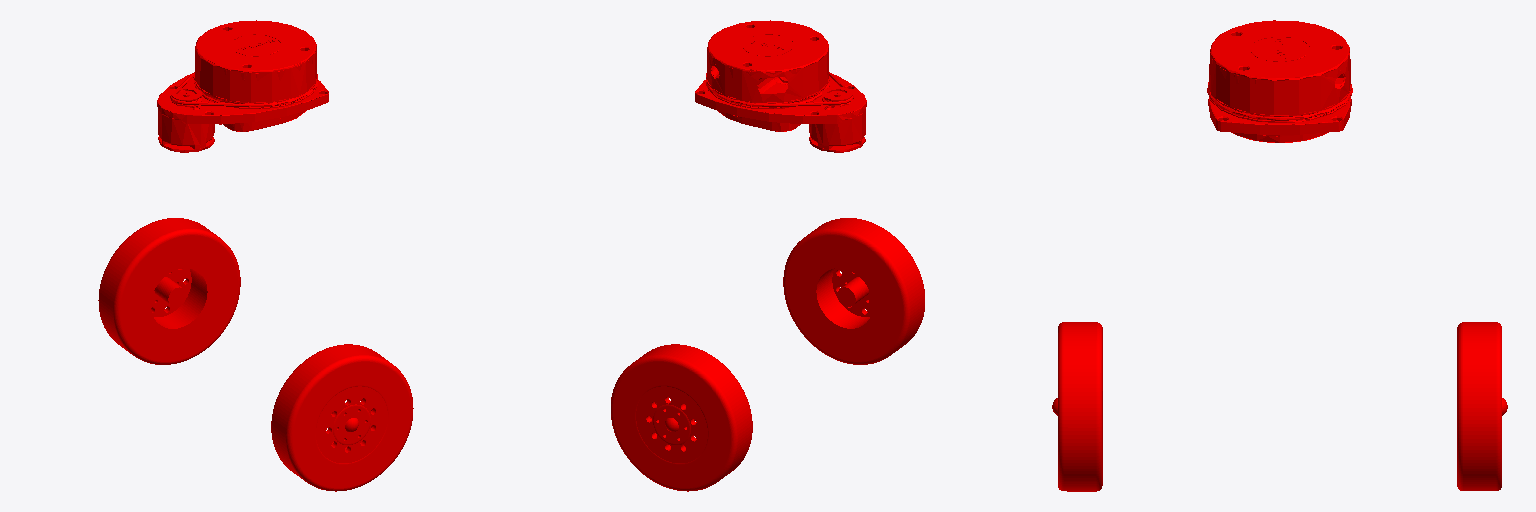
The robot description file, URDF, robot "neuronbot2_description":
<?xml version="1.0"?>
<robot
  name="neuronbot2_description">

  <!-- Color definition -->
  <material name="white">
    <color rgba="1 1 1 0.6"/>
  </material>

  <material name="black">
    <color rgba="0 0 0 0.7"/>
  </material>

  <material name="red">
    <color rgba="1 0 0 1"/>
  </material>

  <link
    name="base_link">
    <inertial>
      <origin
        xyz="0 0 0"
        rpy="0 0 0" />
      <mass
        value="8.3" />
      <inertia
        ixx="5.249466E+13"
        ixy="-1.398065E+12"
        ixz="-3.158592E+12"
        iyy="5.786727E+13"
        iyz="-5.159120E+11"
        izz="3.114993E+13" />
    </inertial>
    <visual>
      <origin
        xyz="0 0 0"
        rpy="0 3.1415 3.1415" />
      <geometry>
        <mesh
          filename="package://neuronbot2_description/meshes/neuronbot2/base_link.stl" scale="0.001 0.001 0.001"/>
      </geometry>
      <material name="black"/>
    </visual>
    <collision>
      <origin
        xyz="0 0 0.125"
        rpy="0 0 0" />
      <geometry>
          <box size="0.25 0.25 0.25" />
      </geometry>
      <material name="black"/>
    </collision>
  </link>

  <link
    name="laser_frame">
    <inertial>
      <origin
        xyz="0 0 0"
        rpy="0 0 0" />
      <mass
        value="0.362" />
      <inertia
        ixx="2.634758E+07"
        ixy="1.854066E+05"
        ixz="-2.027321E+07"
        iyy="6.138498E+07"
        iyz="-8.570560E+04"
        izz="5.234910E+07" />
    </inertial>
    <visual>
      <origin
        xyz="0 0 0"
        rpy="0 0 0" />
      <geometry>
        <mesh
          filename="package://neuronbot2_description/meshes/neuronbot2/laser_link.stl" scale="0.001 0.001 0.001"/>
      </geometry>
      <material name="red"/>
    </visual>
    <collision>
      <origin
        xyz="0 0 0"
        rpy="0 0 0" />
      <geometry>
        <mesh
          filename="package://neuronbot2_description/meshes/neuronbot2/laser_link.stl" scale="0.001 0.001 0.001"/>
      </geometry>
      <material name="red"/>
    </collision>
  </link>

  <link name="imu_link"/>

  <link name="wheel_right_link">
    <visual>
      <origin xyz="0 0 0" rpy="0 0 0"/>
      <geometry>
        <mesh
          filename="package://neuronbot2_description/meshes/neuronbot2/wheel_link.stl" scale="0.001 0.001 0.001"/>
      </geometry>
      <material name="red"/>
    </visual>
    <collision>
      <origin xyz="0 0 0" rpy="0 0 0"/>
      <geometry>
        <mesh
          filename="package://neuronbot2_description/meshes/neuronbot2/wheel_link.stl" scale="0.001 0.001 0.001"/>
      </geometry>
      <material name="red"/>
    </collision>
  </link>

  <link name="wheel_left_link">
    <visual>
      <origin xyz="0 0 0" rpy="0 0 0"/>
      <geometry>
        <mesh
          filename="package://neuronbot2_description/meshes/neuronbot2/wheel_link.stl" scale="0.001 0.001 0.001"/>
      </geometry>
      <material name="red"/>
    </visual>
    <collision>
      <origin xyz="0 0 0" rpy="0 0 0"/>
      <geometry>
        <mesh
          filename="package://neuronbot2_description/meshes/neuronbot2/wheel_link.stl" scale="0.001 0.001 0.001"/>
      </geometry>
      <material name="red"/>
    </collision>  
  </link>

  <joint name="laser_frame_joint" type="fixed">
    <origin
      xyz="0 0 0.205"
      rpy="0 0 0" />
    <parent link="base_link" />
    <child link="laser_frame" />
    <axis xyz="0 0 0" />
  </joint>

  <joint name="imu_joint" type="fixed">
    <parent link="base_link"/>
    <child link="imu_link"/>
    <origin rpy="0 0 0" xyz="0 0 -0.05"/>
    <axis xyz="0 0 0" />
  </joint>
  
  <joint name="r_wheel_joint" type="continuous">
    <parent link="base_link"/>
    <child link="wheel_right_link"/>
    <origin xyz="0.0 -0.109 0.0415" rpy="0 0 3.14"/>
    <axis xyz="0 1 0"/>
  </joint>

  <joint name="l_wheel_joint" type="continuous">
    <parent link="base_link"/>
    <child link="wheel_left_link"/>
    <origin xyz="0.0 0.109 0.0415" rpy="0 0 0"/>
    <axis xyz="0 1 0"/>
  </joint>

</robot>

--- Facts derived from the render (not from the file) ---
Views: 3 orthographic renders of the robot side by side, from view 1: azimuth 30°, elevation 25°; view 2: azimuth 150°, elevation 25°; view 3: azimuth 270°, elevation 25°.
Robot: neuronbot2_description — 5 links, 4 joints (2 continuous, 2 fixed); root link base_link; default pose: every joint at zero.
Links seen in each view (by area): view 1: wheel_right_link, wheel_left_link, laser_frame; view 2: wheel_left_link, wheel_right_link, laser_frame; view 3: laser_frame, wheel_right_link, wheel_left_link.
Boxes of the visible links, bbox=[...] form: wheel_right_link: bbox=[271, 344, 413, 491]; wheel_left_link: bbox=[98, 218, 240, 364]; laser_frame: bbox=[157, 20, 328, 152]; wheel_left_link: bbox=[611, 344, 752, 491]; wheel_right_link: bbox=[783, 218, 924, 364]; laser_frame: bbox=[695, 20, 866, 152]; laser_frame: bbox=[1207, 20, 1352, 142]; wheel_right_link: bbox=[1052, 322, 1102, 491]; wheel_left_link: bbox=[1457, 322, 1507, 490].
Size in the robot's own frame: 0.1031 by 0.2234 by 0.235 metres.
Meshes: 3 distinct files referenced, 3 mesh visuals loaded (2 binary STL); not drawn: 1 (reference not matched to a file when rendering).